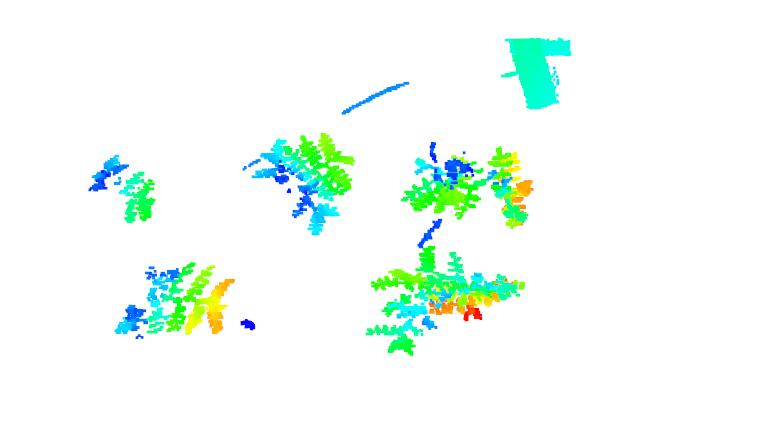chickpea: (242, 136, 354, 239), (112, 259, 234, 340), (419, 242, 532, 324), (401, 136, 487, 223), (370, 262, 435, 359), (85, 151, 161, 228), (491, 142, 549, 231)
